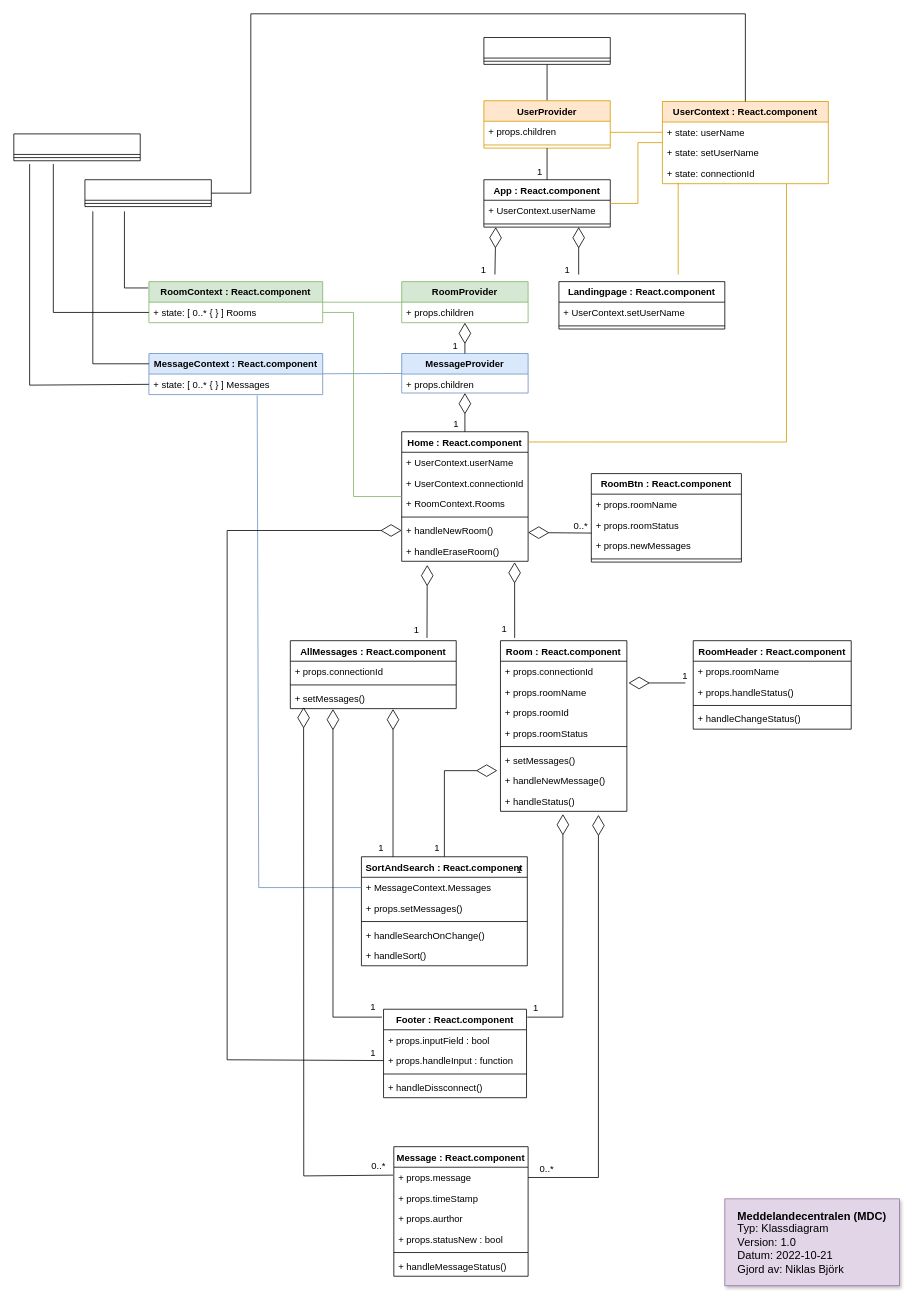
This 918x1305 diagram has some shape labels left out. The centre of each missing label's shape, as x and y in pixels:
ApiRequests: (76,147)
index: (546,50)
SignalRConnection: (147,193)
